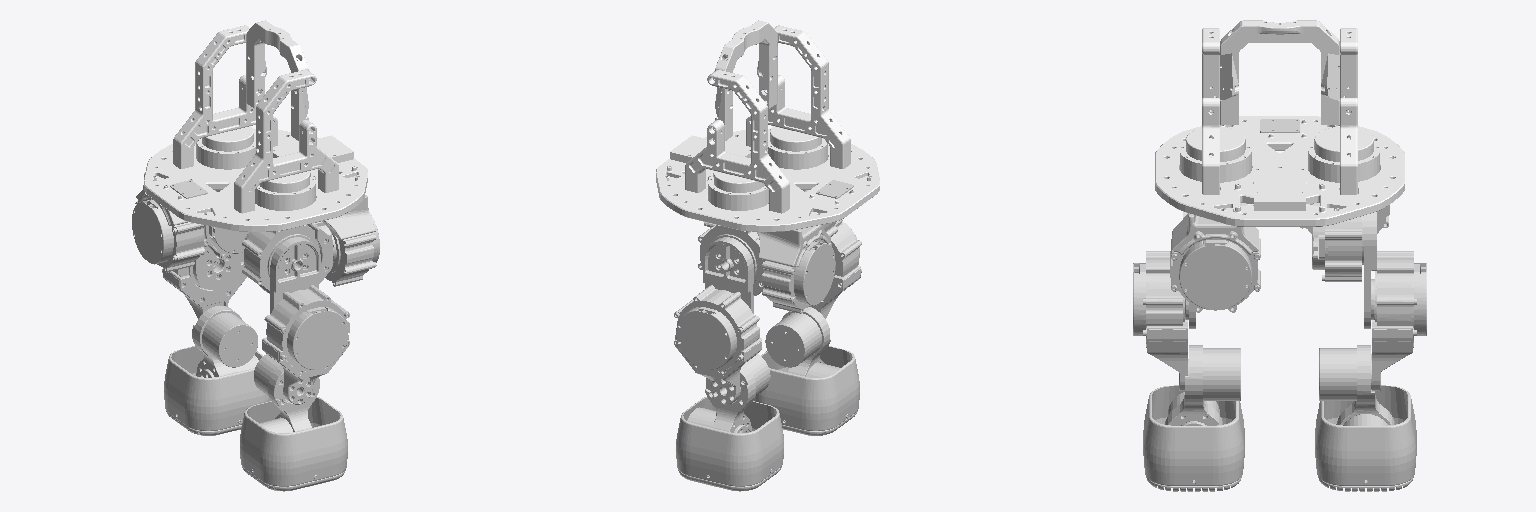
URDF robot description (dreambo_bipedal):
<?xml version="1.0" encoding="utf-8"?>
<robot name="dreambo_bipedal">
  <link name="base_link">
    <inertial>
      <origin xyz="0.00319845379693415 2.19411732916425E-05 0.0256245373852634" rpy="0 0 0" />
      <mass value="1.81891933891081" />
      <inertia ixx="0.00437409246405585" ixy="-1.95087868555934E-07" ixz="2.02434314123506E-05" iyy="0.00475106555542052" iyz="8.39800379193748E-08" izz="0.00752813235097887" />
    </inertial>
    <visual>
      <origin xyz="0 0 0" rpy="0 0 0" />
      <geometry>
        <mesh filename="package://dreambo_bipedal/meshes/base_link.STL" />
      </geometry>
      <material name="">
        <color rgba="1 1 1 1" />
      </material>
    </visual>
    <collision>
      <origin xyz="0 0 0" rpy="0 0 0" />
      <geometry>
        <mesh filename="package://dreambo_bipedal/meshes/base_link.STL" />
      </geometry>
    </collision>
  </link>
  <link name="imu_link">
    <inertial>
      <origin xyz="0 1.76860479386698E-17 -0.000799999999999997" rpy="0 0 0" />
      <mass value="0.00212391079934123" />
      <inertia ixx="3.26232590285566E-07" ixy="4.11078632285966E-23" ixz="-2.61967307192194E-25" iyy="1.72719563958009E-07" iyz="-6.76867533750972E-25" izz="4.98045952302523E-07" />
    </inertial>
    <visual>
      <origin xyz="0 0 0" rpy="0 0 0" />
      <geometry>
        <mesh filename="package://dreambo_bipedal/meshes/imu_link.STL" />
      </geometry>
      <material name="">
        <color rgba="0.894117647058823 0.894117647058823 0.894117647058823 1" />
      </material>
    </visual>
    <collision>
      <origin xyz="0 0 0" rpy="0 0 0" />
      <geometry>
        <mesh filename="package://dreambo_bipedal/meshes/imu_link.STL" />
      </geometry>
    </collision>
  </link>
  <joint name="imu_joint" type="fixed">
    <origin xyz="-0.0960317112278797 -0.000118214044089267 0.0106" rpy="0 0 0" />
    <parent link="base_link" />
    <child link="imu_link" />
    <axis xyz="0 0 0" />
  </joint>
  <link name="l_hip_yaw_link">
    <inertial>
      <origin xyz="-0.0777031232773881 2.34971863497802E-05 -0.0610436536238089" rpy="0 0 0" />
      <mass value="1.01878467702785" />
      <inertia ixx="0.00123431443237392" ixy="7.70869582026747E-07" ixz="-3.003885763377E-05" iyy="0.000824720440306758" iyz="-5.95664103169563E-07" izz="0.000897264214524008" />
    </inertial>
    <visual>
      <origin xyz="0 0 0" rpy="0 0 0" />
      <geometry>
        <mesh filename="package://dreambo_bipedal/meshes/l_hip_yaw_link.STL" />
      </geometry>
      <material name="">
        <color rgba="0.894117647058823 0.894117647058823 0.894117647058823 1" />
      </material>
    </visual>
    <collision>
      <origin xyz="0 0 0" rpy="0 0 0" />
      <geometry>
        <mesh filename="package://dreambo_bipedal/meshes/l_hip_yaw_link.STL" />
      </geometry>
    </collision>
  </link>
  <joint name="l_hip_yaw_joint" type="revolute">
    <origin xyz="0 0.07 -0.006" rpy="0 0 0" />
    <parent link="base_link" />
    <child link="l_hip_yaw_link" />
    <axis xyz="0 0 1" />
    <limit lower="-0.2" upper="0.2" effort="17" velocity="42" />
  </joint>
  <link name="l_hip_roll_link">
    <inertial>
      <origin xyz="0.0551612580319456 -0.00194686189481211 2.57266092415637E-05" rpy="0 0 0" />
      <mass value="0.931054269669199" />
      <inertia ixx="0.000681553814914373" ixy="-3.06598003202223E-07" ixz="-5.95747572017256E-07" iyy="0.0011791018936461" iyz="7.71615389730664E-07" izz="0.000636573963711595" />
    </inertial>
    <visual>
      <origin xyz="0 0 0" rpy="0 0 0" />
      <geometry>
        <mesh filename="package://dreambo_bipedal/meshes/l_hip_roll_link.STL" />
      </geometry>
      <material name="">
        <color rgba="0.894117647058823 0.894117647058823 0.894117647058823 1" />
      </material>
    </visual>
    <collision>
      <origin xyz="0 0 0" rpy="0 0 0" />
      <geometry>
        <mesh filename="package://dreambo_bipedal/meshes/l_hip_roll_link.STL" />
      </geometry>
    </collision>
  </link>
  <joint name="l_hip_roll_joint" type="revolute">
    <origin xyz="-0.057917 0 -0.068" rpy="0 0 0" />
    <parent link="l_hip_yaw_link" />
    <child link="l_hip_roll_link" />
    <axis xyz="-1 0 0" />
    <limit lower="-0.2" upper="0.2" effort="60" velocity="20" />
    <dynamics damping="10" friction="100" />
  </joint>
  <link name="l_hip_pitch_link">
    <inertial>
      <origin xyz="-2.41264798937768E-15 0.00521081104756992 -0.0336612637634136" rpy="0 0 0" />
      <mass value="0.0910464422547246" />
      <inertia ixx="0.000132936503129587" ixy="-3.36359831338186E-21" ixz="-4.1895011121913E-20" iyy="0.000161715715361343" iyz="-1.12807737148567E-06" izz="3.09291224719929E-05" />
    </inertial>
    <visual>
      <origin xyz="0 0 0" rpy="0 0 0" />
      <geometry>
        <mesh filename="package://dreambo_bipedal/meshes/l_hip_pitch_link.STL" />
      </geometry>
      <material name="">
        <color rgba="0.894117647058823 0.894117647058823 0.894117647058823 1" />
      </material>
    </visual>
    <collision>
      <origin xyz="0 0 0" rpy="0 0 0" />
      <geometry>
        <mesh filename="package://dreambo_bipedal/meshes/l_hip_pitch_link.STL" />
      </geometry>
    </collision>
  </link>
  <joint name="l_hip_pitch_joint" type="revolute">
    <origin xyz="0.05781 0.02155 0" rpy="0 0 0" />
    <parent link="l_hip_roll_link" />
    <child link="l_hip_pitch_link" />
    <axis xyz="0 -1 0" />
    <limit lower="-0.1" upper="1.7" effort="60" velocity="20" />
    <dynamics damping="10" friction="100" />
  </joint>
  <link name="l_knee_pitch_link">
    <inertial>
      <origin xyz="-2.4656075319031E-05 0.0225336680923506 -0.00480645108618838" rpy="0 0 0" />
      <mass value="0.971490392039293" />
      <inertia ixx="0.000686362716275165" ixy="7.71628164414981E-07" ixz="-5.95747350255148E-07" iyy="0.0012579114435512" iyz="-1.09953722196319E-05" izz="0.000721306554594231" />
    </inertial>
    <visual>
      <origin xyz="0 0 0" rpy="0 0 0" />
      <geometry>
        <mesh filename="package://dreambo_bipedal/meshes/l_knee_pitch_link.STL" />
      </geometry>
      <material name="">
        <color rgba="0.894117647058823 0.894117647058823 0.894117647058823 1" />
      </material>
    </visual>
    <collision>
      <origin xyz="0 0 0" rpy="0 0 0" />
      <geometry>
        <mesh filename="package://dreambo_bipedal/meshes/l_knee_pitch_link.STL" />
      </geometry>
    </collision>
  </link>
  <joint name="l_knee_pitch_joint" type="revolute">
    <origin xyz="0 0.012 -0.08" rpy="0 0 0" />
    <parent link="l_hip_pitch_link" />
    <child link="l_knee_pitch_link" />
    <axis xyz="0 1 0" />
    <limit lower="-0.1" upper="2.6" effort="60" velocity="20" />
  </joint>
  <link name="l_ankle_pitch_link">
    <inertial>
      <origin xyz="0.0111488189615353 -0.00983003625620882 -0.0357477688589794" rpy="0 0 0" />
      <mass value="0.68752007748517" />
      <inertia ixx="0.000356241183646846" ixy="1.43176277419375E-07" ixz="5.63051040251851E-08" iyy="0.000353563503200878" iyz="-1.09360342269081E-06" izz="0.000286291213397041" />
    </inertial>
    <visual>
      <origin xyz="0 0 0" rpy="0 0 0" />
      <geometry>
        <mesh filename="package://dreambo_bipedal/meshes/l_ankle_pitch_link.STL" />
      </geometry>
      <material name="">
        <color rgba="0.894117647058823 0.894117647058823 0.894117647058823 1" />
      </material>
    </visual>
    <collision>
      <origin xyz="0 0 0" rpy="0 0 0" />
      <geometry>
        <mesh filename="package://dreambo_bipedal/meshes/l_ankle_pitch_link.STL" />
      </geometry>
    </collision>
  </link>
  <joint name="l_ankle_pitch_joint" type="revolute">
    <origin xyz="0 -0.0115 -0.09" rpy="0 0 0" />
    <parent link="l_knee_pitch_link" />
    <child link="l_ankle_pitch_link" />
    <axis xyz="0 -1 0" />
    <limit lower="-0.1" upper="1.6" effort="14" velocity="37" />
  </joint>
  <link name="l_ankle_roll_link">
    <inertial>
      <origin xyz="-0.00312458693029854 1.32188173629366E-07 -0.0214290747398834" rpy="0 0 0" />
      <mass value="0.258324154754455" />
      <inertia ixx="0.000338809183895299" ixy="5.75586669540759E-09" ixz="1.31522366323642E-06" iyy="0.000365133101026911" iyz="1.16626083259462E-09" izz="0.00059178806615274" />
    </inertial>
    <visual>
      <origin xyz="0 0 0" rpy="0 0 0" />
      <geometry>
        <mesh filename="package://dreambo_bipedal/meshes/l_ankle_roll_link.STL" />
      </geometry>
      <material name="">
        <color rgba="0.894117647058823 0.894117647058823 0.894117647058823 1" />
      </material>
    </visual>
    <collision>
      <origin xyz="0 0 0" rpy="0 0 0" />
      <geometry>
        <mesh filename="package://dreambo_bipedal/meshes/l_ankle_roll_link.STL" />
      </geometry>
    </collision>
  </link>
  <joint name="l_ankle_roll_joint" type="revolute">
    <origin xyz="0.0011 0.0016 -0.070755" rpy="0 0 0" />
    <parent link="l_ankle_pitch_link" />
    <child link="l_ankle_roll_link" />
    <axis xyz="1 0 0" />
    <limit lower="-0.2" upper="0.26" effort="14" velocity="37" />
  </joint>
  <link name="r_hip_yaw_link">
    <inertial>
      <origin xyz="-0.0777031221067375 2.35025820187751E-05 -0.061043659248071" rpy="0 0 0" />
      <mass value="1.01878451978028" />
      <inertia ixx="0.00123431432962355" ixy="7.71061087781195E-07" ixz="-3.00388178855561E-05" iyy="0.000824720245697182" iyz="-5.95638022445635E-07" izz="0.000897263932102722" />
    </inertial>
    <visual>
      <origin xyz="0 0 0" rpy="0 0 0" />
      <geometry>
        <mesh filename="package://dreambo_bipedal/meshes/r_hip_yaw_link.STL" />
      </geometry>
      <material name="">
        <color rgba="0.894117647058823 0.894117647058823 0.894117647058823 1" />
      </material>
    </visual>
    <collision>
      <origin xyz="0 0 0" rpy="0 0 0" />
      <geometry>
        <mesh filename="package://dreambo_bipedal/meshes/r_hip_yaw_link.STL" />
      </geometry>
    </collision>
  </link>
  <joint name="r_hip_yaw_joint" type="revolute">
    <origin xyz="0 -0.07 -0.006" rpy="0 0 -3.14159265358979" />
    <parent link="base_link" />
    <child link="r_hip_yaw_link" />
    <axis xyz="0 0 1" />
    <limit lower="-0.2" upper="0.2" effort="17" velocity="42" />
  </joint>
  <link name="r_hip_roll_link">
    <inertial>
      <origin xyz="0.0551612580319456 -0.00194686189481205 2.57266092415914E-05" rpy="0 0 0" />
      <mass value="0.9310542696692" />
      <inertia ixx="0.000681553814914374" ixy="-3.06598003202553E-07" ixz="-5.95747572017119E-07" iyy="0.0011791018936461" iyz="7.71615389730766E-07" izz="0.000636573963711596" />
    </inertial>
    <visual>
      <origin xyz="0 0 0" rpy="0 0 0" />
      <geometry>
        <mesh filename="package://dreambo_bipedal/meshes/r_hip_roll_link.STL" />
      </geometry>
      <material name="">
        <color rgba="0.894117647058823 0.894117647058823 0.894117647058823 1" />
      </material>
    </visual>
    <collision>
      <origin xyz="0 0 0" rpy="0 0 0" />
      <geometry>
        <mesh filename="package://dreambo_bipedal/meshes/r_hip_roll_link.STL" />
      </geometry>
    </collision>
  </link>
  <joint name="r_hip_roll_joint" type="revolute">
    <origin xyz="-0.057917 0 -0.068" rpy="0 0 0" />
    <parent link="r_hip_yaw_link" />
    <child link="r_hip_roll_link" />
    <axis xyz="-1 0 0" />
    <limit lower="-0.2" upper="0.2" effort="60" velocity="20" />
    <dynamics damping="10" friction="100" />
  </joint>
  <link name="r_hip_pitch_link">
    <inertial>
      <origin xyz="-2.38710147568849E-15 0.00521081104756992 -0.0336612637634136" rpy="0 0 0" />
      <mass value="0.0910464422547247" />
      <inertia ixx="0.000132936503129587" ixy="-3.77690233299114E-21" ixz="3.24426531539879E-20" iyy="0.000161715715361343" iyz="-1.12807737148557E-06" izz="3.0929122471993E-05" />
    </inertial>
    <visual>
      <origin xyz="0 0 0" rpy="0 0 0" />
      <geometry>
        <mesh filename="package://dreambo_bipedal/meshes/r_hip_pitch_link.STL" />
      </geometry>
      <material name="">
        <color rgba="0.894117647058823 0.894117647058823 0.894117647058823 1" />
      </material>
    </visual>
    <collision>
      <origin xyz="0 0 0" rpy="0 0 0" />
      <geometry>
        <mesh filename="package://dreambo_bipedal/meshes/r_hip_pitch_link.STL" />
      </geometry>
    </collision>
  </link>
  <joint name="r_hip_pitch_joint" type="revolute">
    <origin xyz="0.05781 0.02155 0" rpy="0 0 0" />
    <parent link="r_hip_roll_link" />
    <child link="r_hip_pitch_link" />
    <axis xyz="0 -1 0" />
    <limit lower="-0.1" upper="1.7" effort="60" velocity="20" />
    <dynamics damping="10" friction="100" />
  </joint>
  <link name="r_knee_pitch_link">
    <inertial>
      <origin xyz="-2.46560753190358E-05 0.0225336680923507 -0.00480645108618835" rpy="0 0 0" />
      <mass value="0.971490392039294" />
      <inertia ixx="0.000686362716275166" ixy="7.7162816441531E-07" ixz="-5.9574735025526E-07" iyy="0.0012579114435512" iyz="-1.09953722196314E-05" izz="0.000721306554594232" />
    </inertial>
    <visual>
      <origin xyz="0 0 0" rpy="0 0 0" />
      <geometry>
        <mesh filename="package://dreambo_bipedal/meshes/r_knee_pitch_link.STL" />
      </geometry>
      <material name="">
        <color rgba="0.894117647058823 0.894117647058823 0.894117647058823 1" />
      </material>
    </visual>
    <collision>
      <origin xyz="0 0 0" rpy="0 0 0" />
      <geometry>
        <mesh filename="package://dreambo_bipedal/meshes/r_knee_pitch_link.STL" />
      </geometry>
    </collision>
  </link>
  <joint name="r_knee_pitch_joint" type="revolute">
    <origin xyz="0 0.0119999999999999 -0.0800000000000005" rpy="0 0 0" />
    <parent link="r_hip_pitch_link" />
    <child link="r_knee_pitch_link" />
    <axis xyz="0 1 0" />
    <limit lower="-0.1" upper="2.6" effort="60" velocity="20" />
  </joint>
  <link name="r_ankle_pitch_link">
    <inertial>
      <origin xyz="-0.0111488189615353 -0.00983003625620882 0.0357477688589793" rpy="0 0 0" />
      <mass value="0.68752007748517" />
      <inertia ixx="0.000356241183646846" ixy="-1.43176277419382E-07" ixz="5.63051040251018E-08" iyy="0.000353563503200878" iyz="1.09360342269064E-06" izz="0.000286291213397041" />
    </inertial>
    <visual>
      <origin xyz="0 0 0" rpy="0 0 0" />
      <geometry>
        <mesh filename="package://dreambo_bipedal/meshes/r_ankle_pitch_link.STL" />
      </geometry>
      <material name="">
        <color rgba="0.894117647058823 0.894117647058823 0.894117647058823 1" />
      </material>
    </visual>
    <collision>
      <origin xyz="0 0 0" rpy="0 0 0" />
      <geometry>
        <mesh filename="package://dreambo_bipedal/meshes/r_ankle_pitch_link.STL" />
      </geometry>
    </collision>
  </link>
  <joint name="r_ankle_pitch_joint" type="revolute">
    <origin xyz="0 -0.0115 -0.0900000000001102" rpy="-3.14159265358979 0 3.14159265358979" />
    <parent link="r_knee_pitch_link" />
    <child link="r_ankle_pitch_link" />
    <axis xyz="0 -1 0" />
    <limit lower="-0.1" upper="1.6" effort="14" velocity="37" />
  </joint>
  <link name="r_ankle_roll_link">
    <inertial>
      <origin xyz="0.00312458676414483 -1.32095841043345E-07 -0.0214290747509164" rpy="0 0 0" />
      <mass value="0.258324154865939" />
      <inertia ixx="0.000338809185527951" ixy="5.75840836163673E-09" ixz="-1.31522357459931E-06" iyy="0.00036513310061057" iyz="-1.1664186546501E-09" izz="0.000591788067392942" />
    </inertial>
    <visual>
      <origin xyz="0 0 0" rpy="0 0 0" />
      <geometry>
        <mesh filename="package://dreambo_bipedal/meshes/r_ankle_roll_link.STL" />
      </geometry>
      <material name="">
        <color rgba="0.894117647058823 0.894117647058823 0.894117647058823 1" />
      </material>
    </visual>
    <collision>
      <origin xyz="0 0 0" rpy="0 0 0" />
      <geometry>
        <mesh filename="package://dreambo_bipedal/meshes/r_ankle_roll_link.STL" />
      </geometry>
    </collision>
  </link>
  <joint name="r_ankle_roll_joint" type="revolute">
    <origin xyz="-0.00109999999999963 0.00160000000000105 0.0707548339959389" rpy="3.14159265358979 0 0" />
    <parent link="r_ankle_pitch_link" />
    <child link="r_ankle_roll_link" />
    <axis xyz="-1 0 0" />
    <limit lower="-0.2" upper="0.26" effort="14" velocity="37" />
  </joint>
</robot>

--- What the picture shows (computed from the rendered views, not written in the file) ---
Views: 3 orthographic renders of the robot side by side, from view 1: azimuth 30°, elevation 25°; view 2: azimuth 150°, elevation 25°; view 3: azimuth 270°, elevation 25°.
Robot: dreambo_bipedal — 14 links, 13 joints (12 revolute, 1 fixed); root link base_link; default pose: every joint at zero.
Visible links, largest first — view 1: base_link, r_ankle_roll_link, r_knee_pitch_link, l_ankle_roll_link, l_hip_yaw_link, l_ankle_pitch_link, r_hip_yaw_link, r_hip_roll_link, r_hip_pitch_link, r_ankle_pitch_link, l_knee_pitch_link, l_hip_pitch_link (+1 smaller); view 2: base_link, l_ankle_roll_link, l_knee_pitch_link, r_ankle_roll_link, l_hip_yaw_link, r_ankle_pitch_link, l_hip_pitch_link, l_ankle_pitch_link, r_knee_pitch_link, l_hip_roll_link; view 3: base_link, l_ankle_roll_link, r_ankle_roll_link, r_hip_yaw_link, l_knee_pitch_link, r_knee_pitch_link, r_ankle_pitch_link, l_ankle_pitch_link, l_hip_roll_link, l_hip_pitch_link, imu_link.
Boxes of the visible links, left/top/right/bottom form: base_link: left=144, top=20, right=367, bottom=231; r_ankle_roll_link: left=240, top=397, right=347, bottom=491; r_knee_pitch_link: left=262, top=285, right=349, bottom=404; l_ankle_roll_link: left=164, top=346, right=270, bottom=435; l_hip_yaw_link: left=132, top=173, right=204, bottom=272; l_ankle_pitch_link: left=192, top=306, right=258, bottom=376; r_hip_yaw_link: left=322, top=195, right=379, bottom=286; r_hip_roll_link: left=242, top=221, right=333, bottom=293; r_hip_pitch_link: left=270, top=237, right=320, bottom=313; r_ankle_pitch_link: left=254, top=354, right=319, bottom=432; l_knee_pitch_link: left=162, top=252, right=246, bottom=318; l_hip_pitch_link: left=193, top=251, right=241, bottom=289; base_link: left=656, top=20, right=879, bottom=231; l_ankle_roll_link: left=676, top=397, right=783, bottom=491; l_knee_pitch_link: left=674, top=285, right=761, bottom=404; r_ankle_roll_link: left=753, top=346, right=859, bottom=435; l_hip_yaw_link: left=757, top=224, right=835, bottom=313; r_ankle_pitch_link: left=765, top=307, right=839, bottom=377; l_hip_pitch_link: left=703, top=237, right=753, bottom=313; l_ankle_pitch_link: left=687, top=354, right=770, bottom=432; r_knee_pitch_link: left=809, top=220, right=861, bottom=318; l_hip_roll_link: left=698, top=225, right=765, bottom=295; base_link: left=1155, top=20, right=1404, bottom=226; l_ankle_roll_link: left=1315, top=385, right=1416, bottom=491; r_ankle_roll_link: left=1143, top=385, right=1244, bottom=491; r_hip_yaw_link: left=1170, top=204, right=1260, bottom=312; l_knee_pitch_link: left=1371, top=251, right=1426, bottom=390; r_knee_pitch_link: left=1133, top=251, right=1188, bottom=390; r_ankle_pitch_link: left=1165, top=345, right=1240, bottom=425; l_ankle_pitch_link: left=1319, top=345, right=1394, bottom=425; l_hip_roll_link: left=1312, top=203, right=1363, bottom=281; l_hip_pitch_link: left=1364, top=212, right=1376, bottom=328; imu_link: left=1260, top=119, right=1299, bottom=132.
Size in the robot's own frame: 0.2658 by 0.3203 by 0.5568 metres.
14 mesh visuals loaded from 14 distinct referenced files (14 binary STL).
